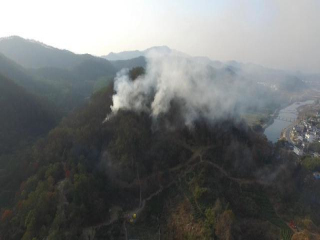smoke: (104, 39, 262, 130)
